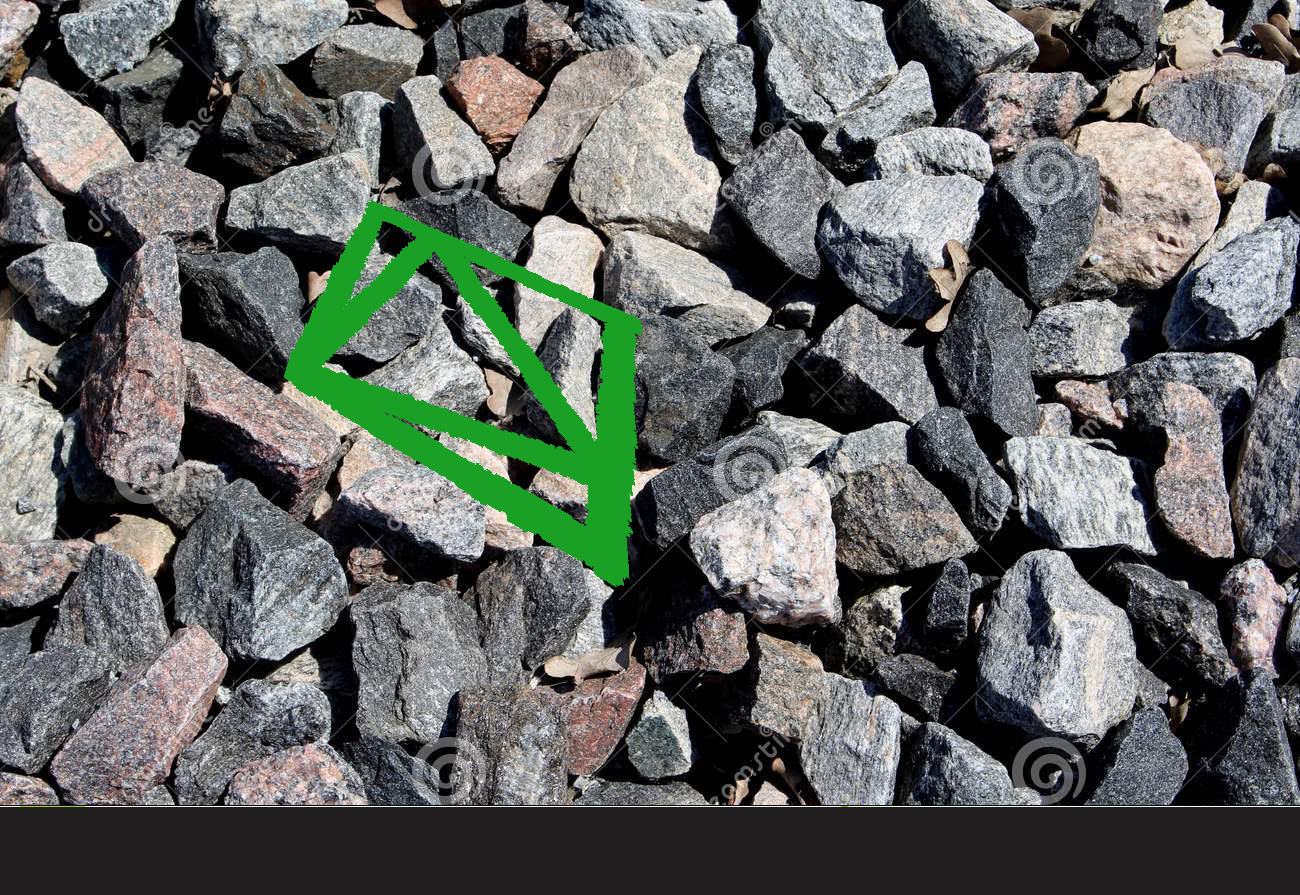marker: (271, 190, 666, 596)
